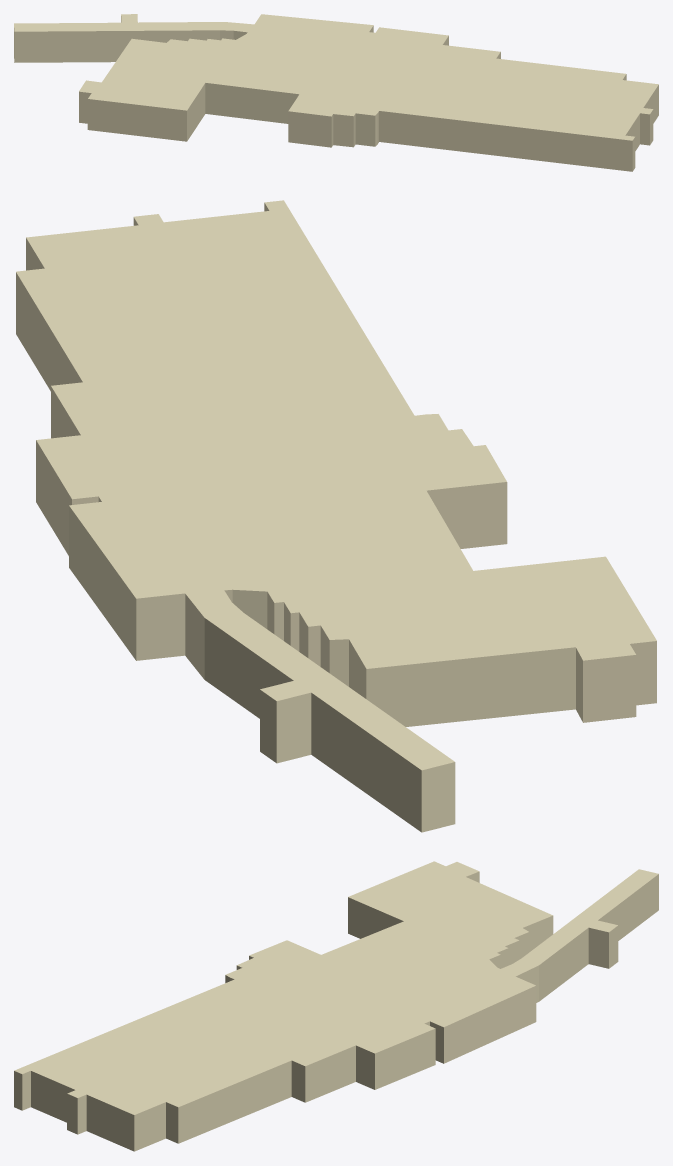
Rendered from emmenbgis-unity-test.fbx.
3 views of the same model, one above another, from view 1: azimuth 30°, elevation 25°; view 2: azimuth 150°, elevation 25°; view 3: azimuth 270°, elevation 25° (orthographic). The views are drawn at different scales.
Visible parts, largest first — view 1: Giesserei Emmenbrücke; view 2: Giesserei Emmenbrücke; view 3: Giesserei Emmenbrücke.
Part boxes in pixels (bbox=[...]): Giesserei Emmenbrücke: bbox=[14, 14, 658, 171]; Giesserei Emmenbrücke: bbox=[16, 200, 656, 832]; Giesserei Emmenbrücke: bbox=[14, 861, 658, 1151].
Bounding box in the file's own units: 29836 × 2000 × 32033.
